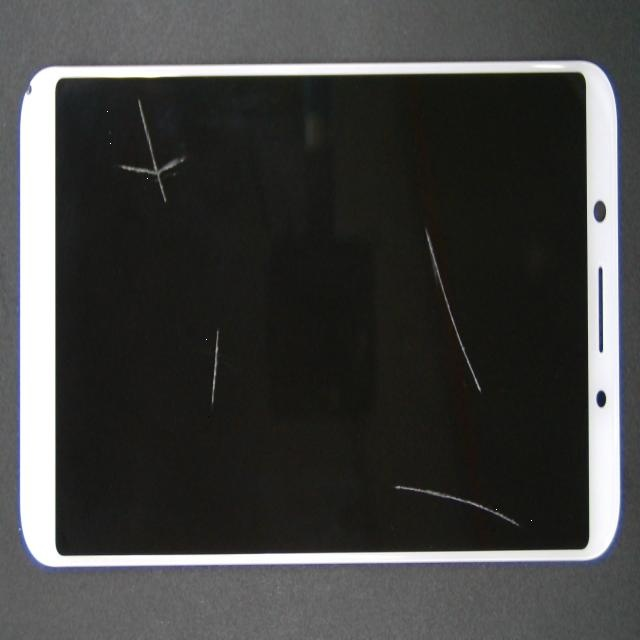scratch: (109, 231, 632, 640), (219, 65, 630, 338), (74, 200, 304, 640), (84, 67, 189, 237)
